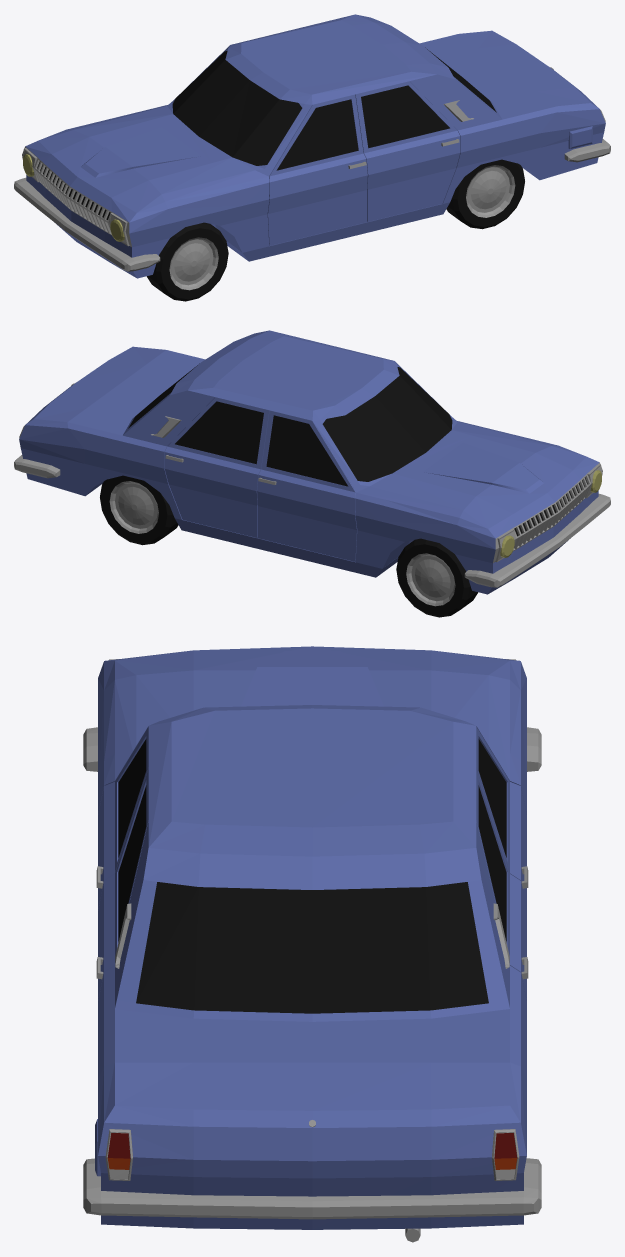
File: gaz24.FBX
3 renders of one model, top to bottom at view 1: azimuth 30°, elevation 25°; view 2: azimuth 150°, elevation 25°; view 3: azimuth 270°, elevation 25°, orthographic. The views are drawn at different scales.
Visible parts, largest first — view 1: Box001, Cylinder001, Cylinder003; view 2: Box001, Cylinder002, Cylinder004; view 3: Box001.
Part boxes in pixels (left/top/right/bottom): Box001: left=14, top=14, right=610, bottom=278; Cylinder001: left=147, top=222, right=228, bottom=301; Cylinder003: left=446, top=159, right=524, bottom=229; Box001: left=14, top=330, right=610, bottom=594; Cylinder002: left=396, top=538, right=477, bottom=617; Cylinder004: left=100, top=475, right=178, bottom=545; Box001: left=83, top=646, right=541, bottom=1242.
Size of the model in its own units: 74.71 by 23.24 by 29.9.
